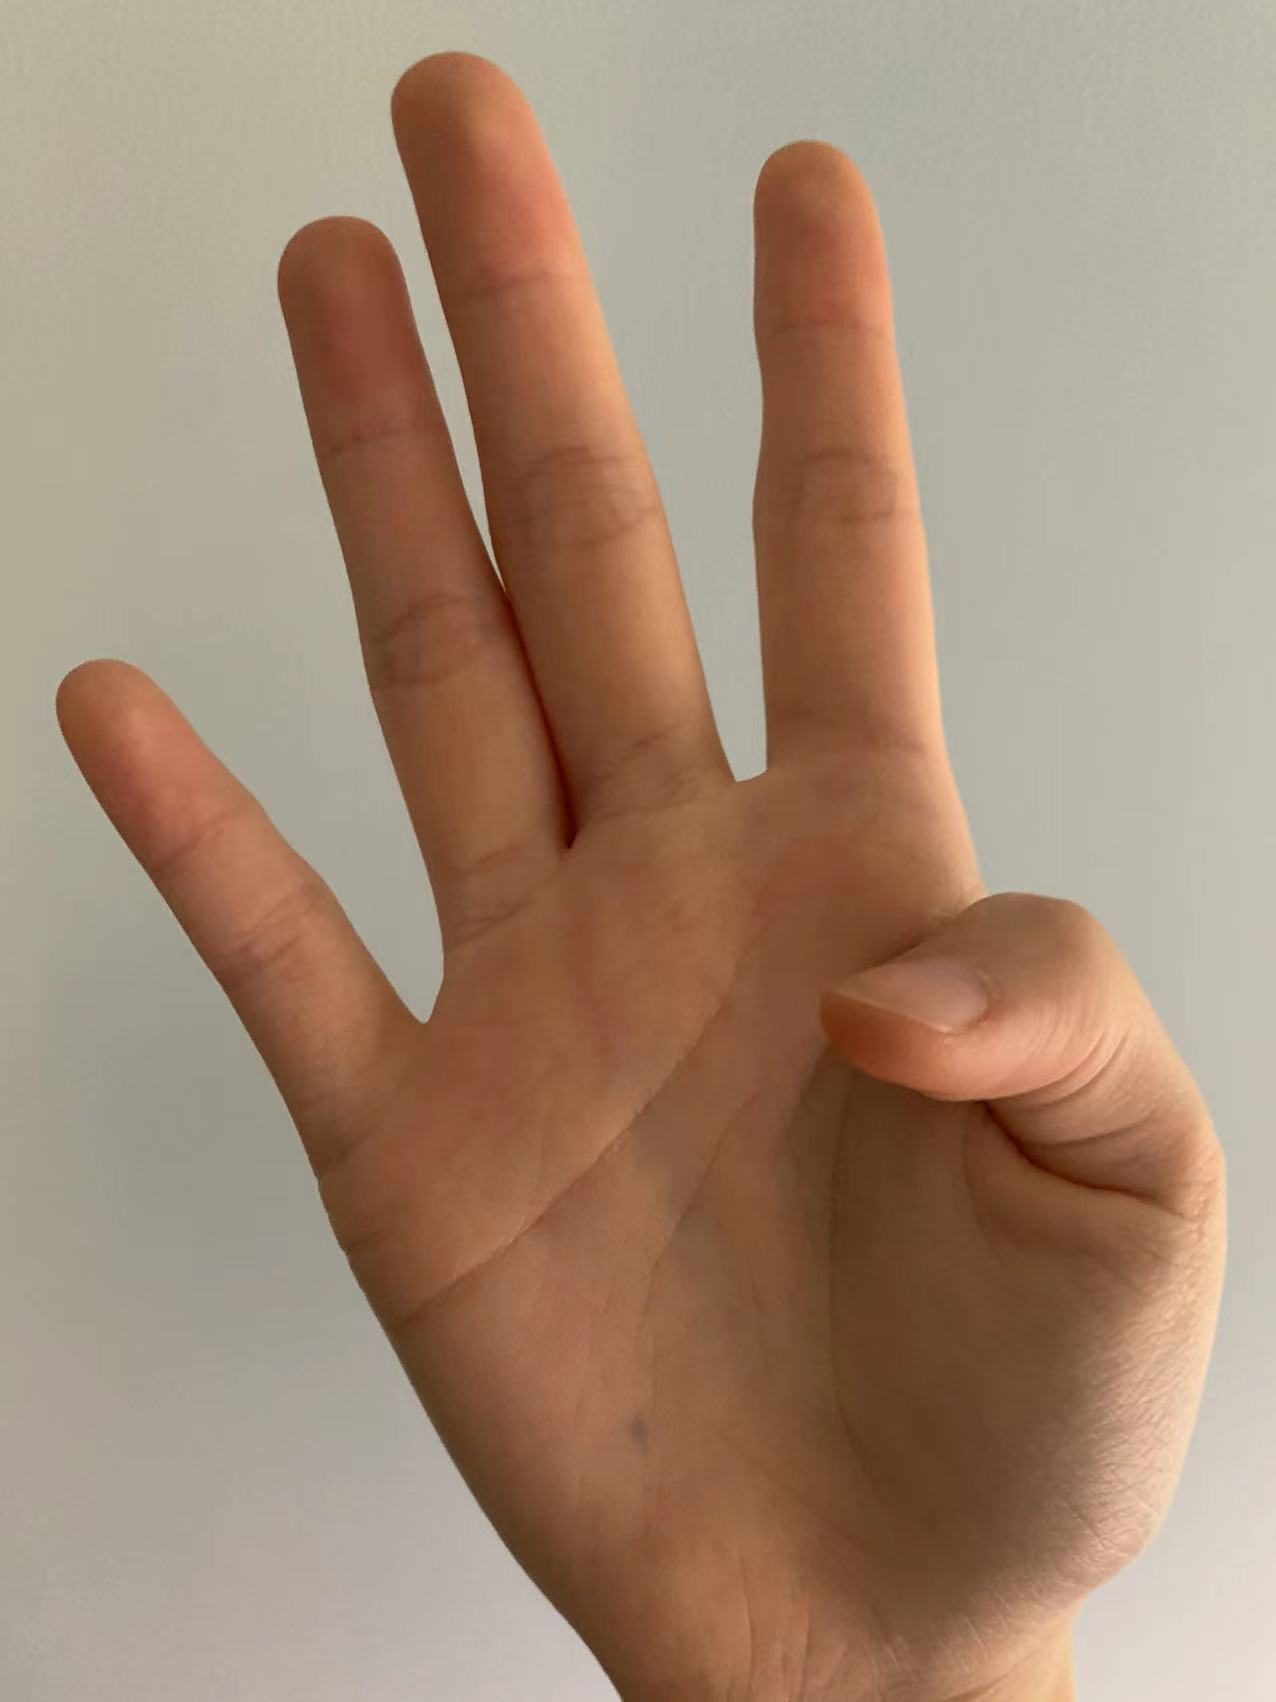right: (29, 44, 1242, 1677)
